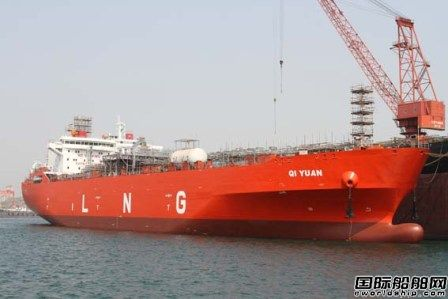Cargoship: (20, 112, 428, 247)
